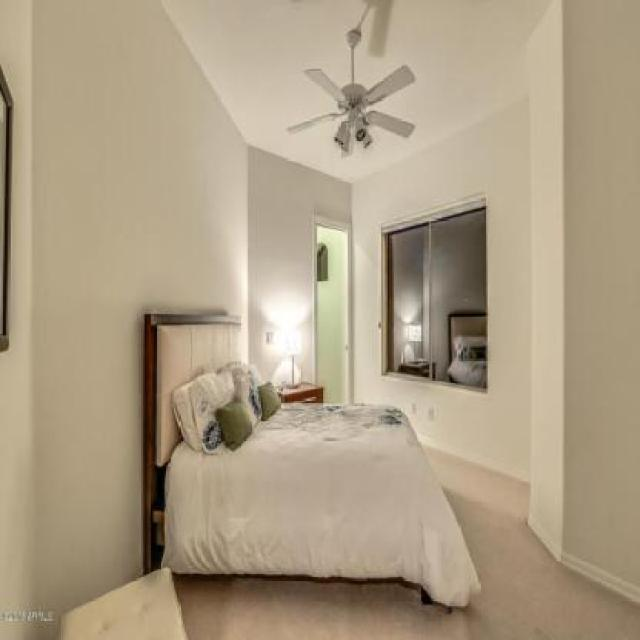floor: (173, 491, 640, 640)
